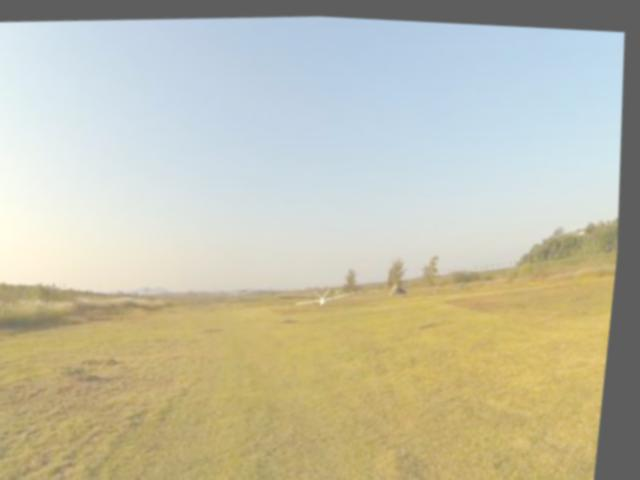uav: (292, 271, 370, 315)
